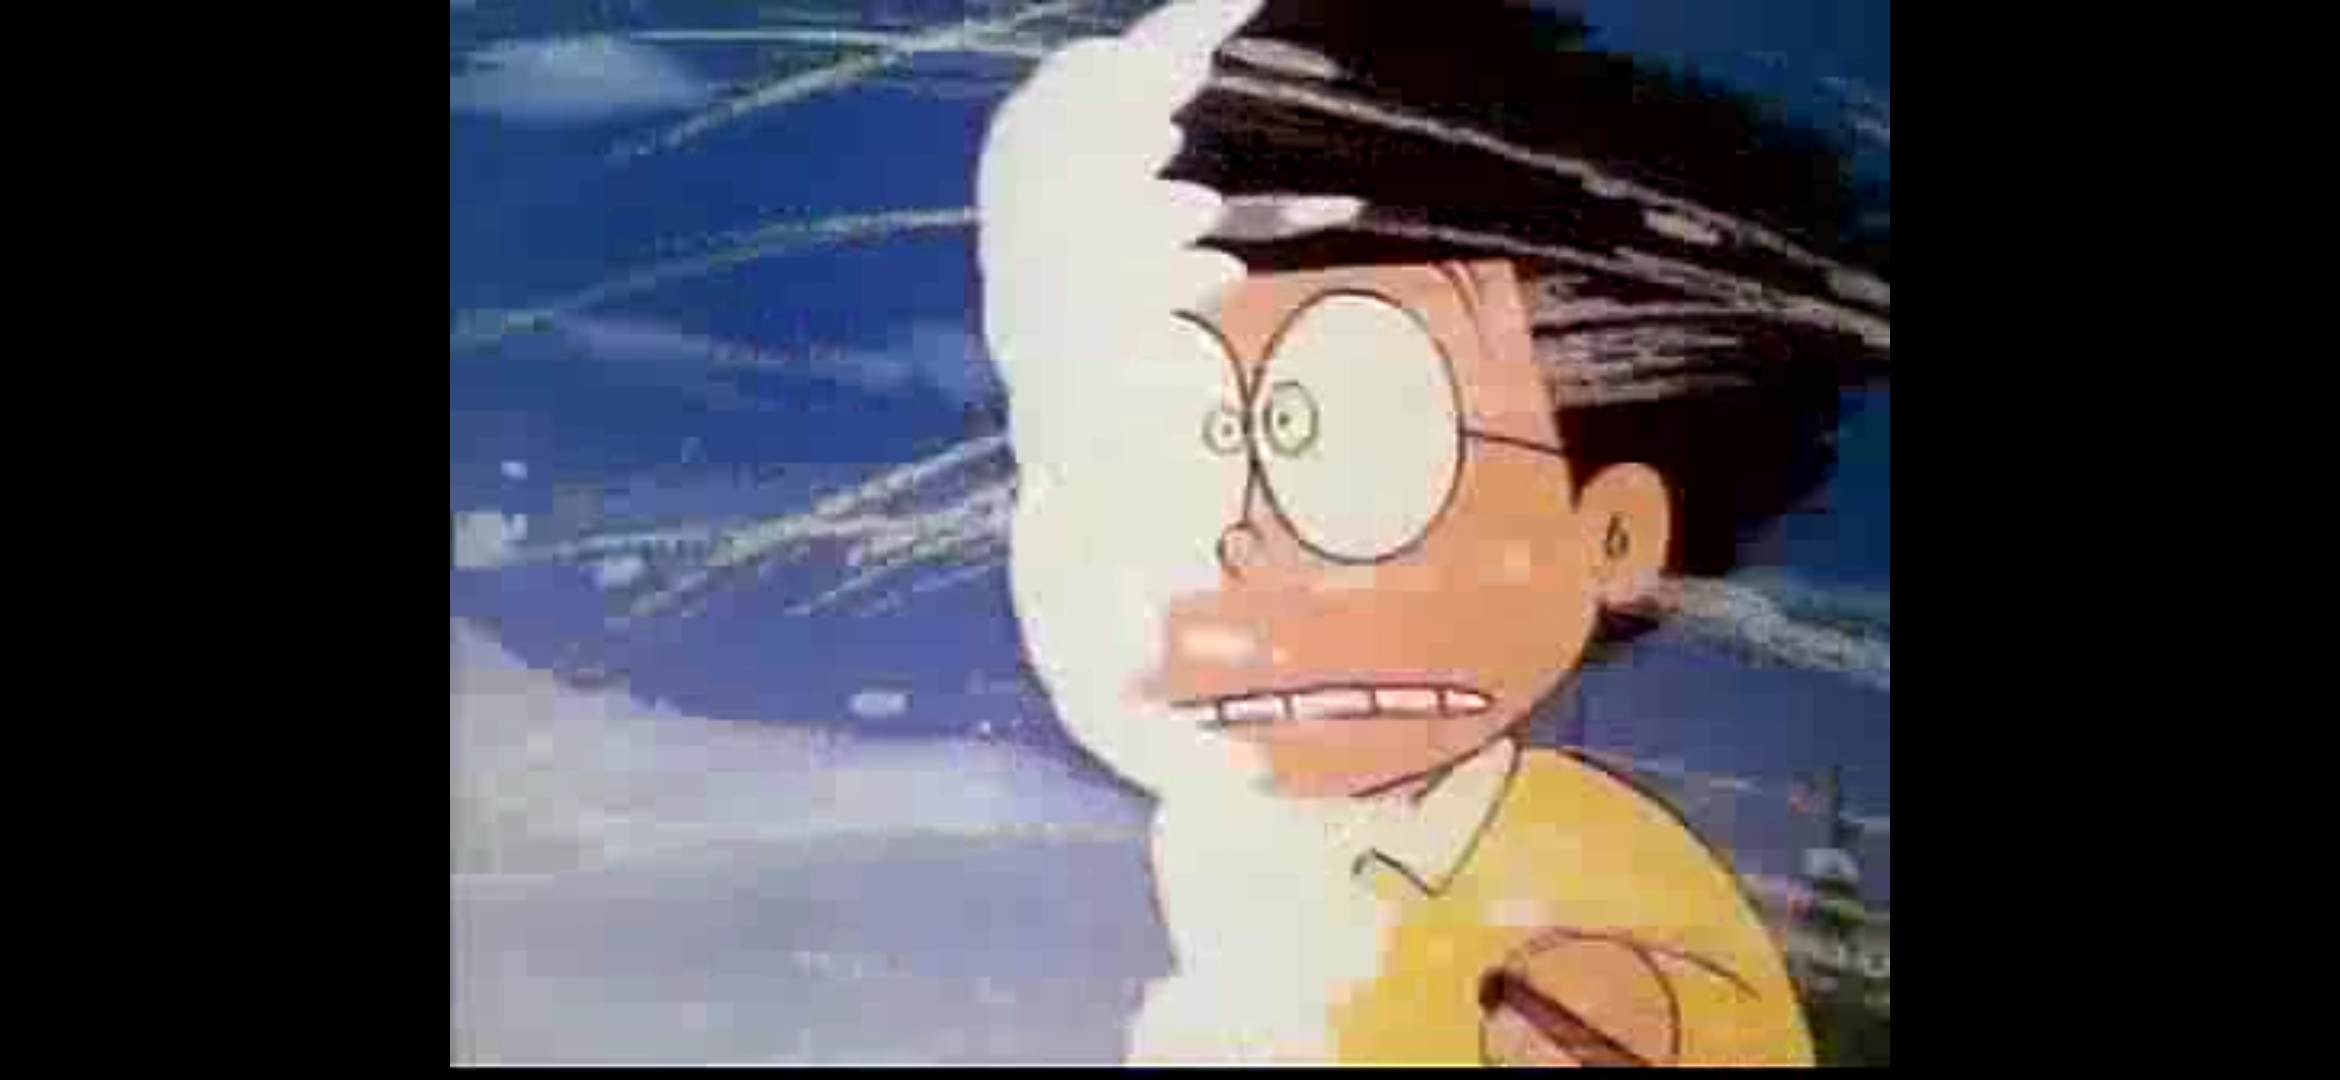Nobi: (976, 70, 1668, 797)
